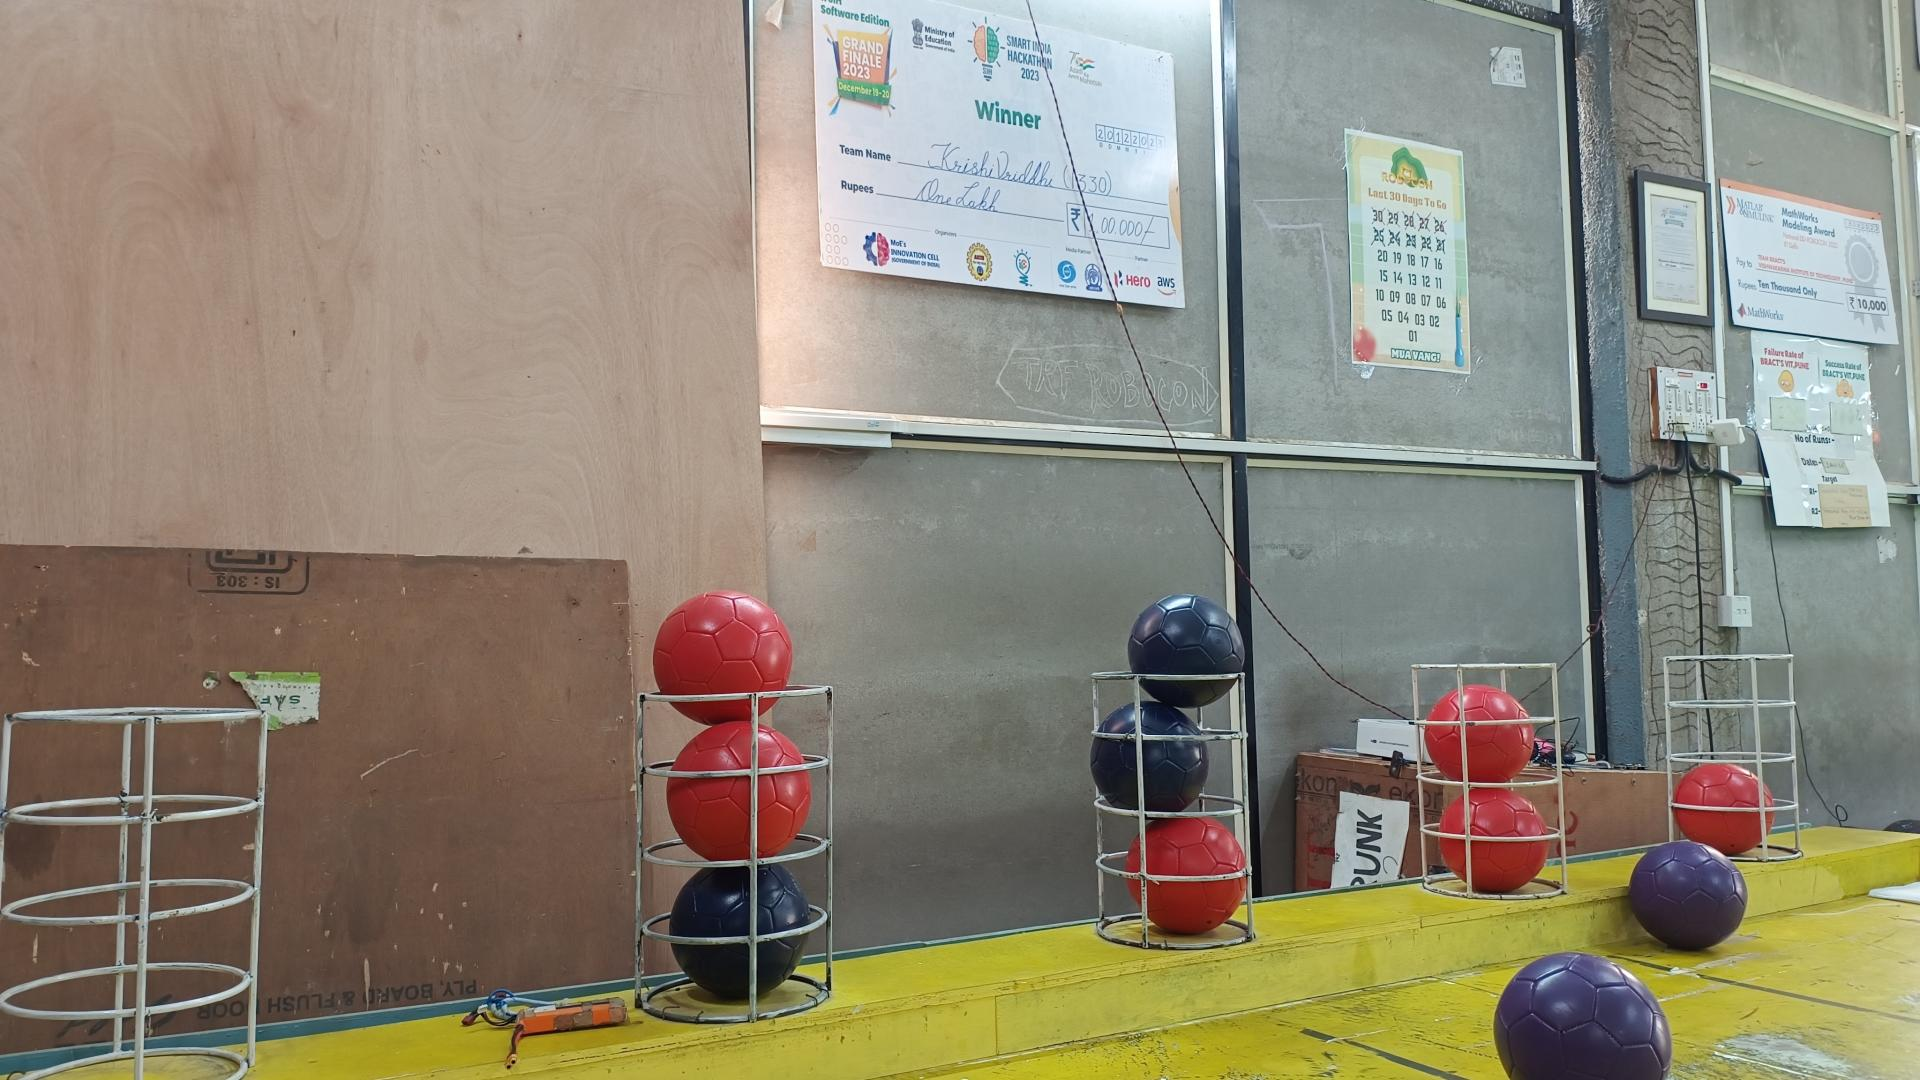dhoka: (667, 864, 814, 1000), (1089, 700, 1209, 812), (1127, 596, 1247, 708)
laale: (667, 720, 812, 862), (653, 591, 795, 727), (1124, 815, 1247, 931), (1437, 787, 1549, 891), (1422, 687, 1535, 783), (1676, 765, 1778, 855)
